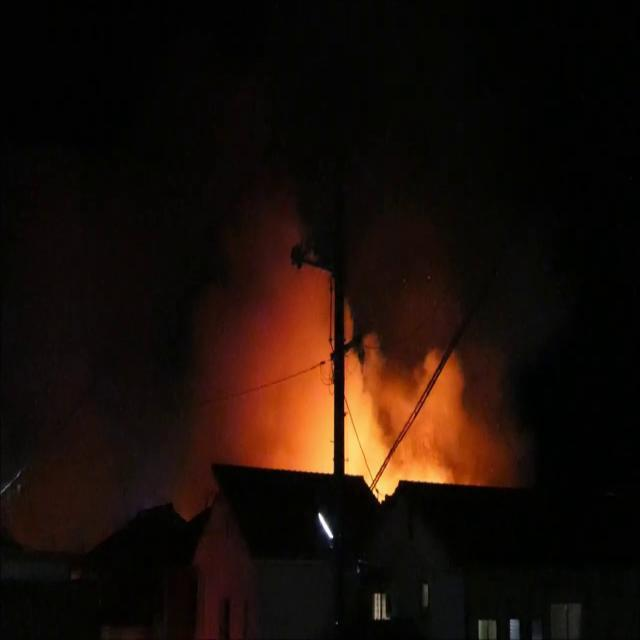Smoke: (182, 168, 528, 474)
